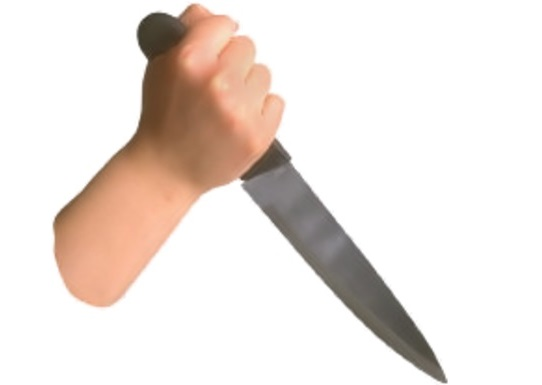knife: (194, 80, 454, 385)
